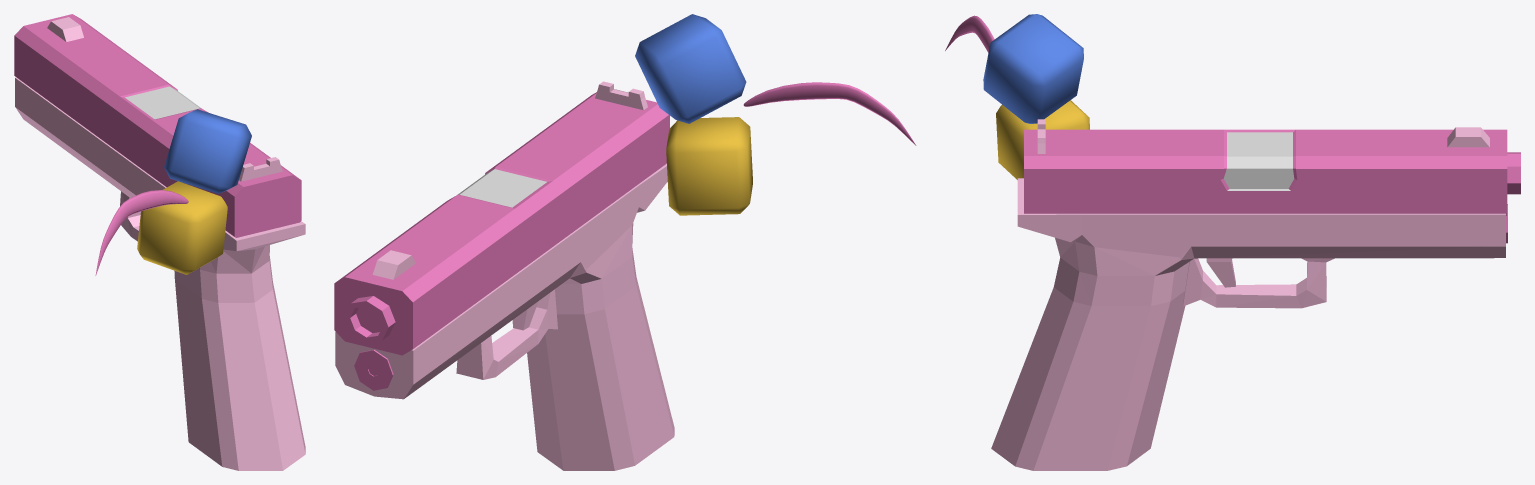
The model's file is bocchi_the_glocc.fbx.
3 views of the same model, side by side, from view 1: azimuth 30°, elevation 25°; view 2: azimuth 150°, elevation 25°; view 3: azimuth 270°, elevation 25° (orthographic). The views are drawn at different scales.
Visible parts, largest first — view 1: Pistol_02_Cube, Cube.002, Cube, Plane; view 2: Pistol_02_Cube, Cube, Cube.002, Plane; view 3: Pistol_02_Cube, Cube, Cube.002, Plane.
Boxes of the visible parts, x1,y1,x2,y2 form: Pistol_02_Cube: (14,14,305,470); Cube.002: (137,181,227,274); Cube: (164,109,251,193); Plane: (95,190,188,275); Pistol_02_Cube: (334,81,674,470); Cube: (635,14,746,123); Cube.002: (666,117,752,215); Plane: (743,82,916,145); Pistol_02_Cube: (991,119,1520,470); Cube: (983,14,1083,123); Cube.002: (996,100,1089,179); Plane: (945,15,994,52).
Bounding box in the file's own units: 245 × 337 × 444.
